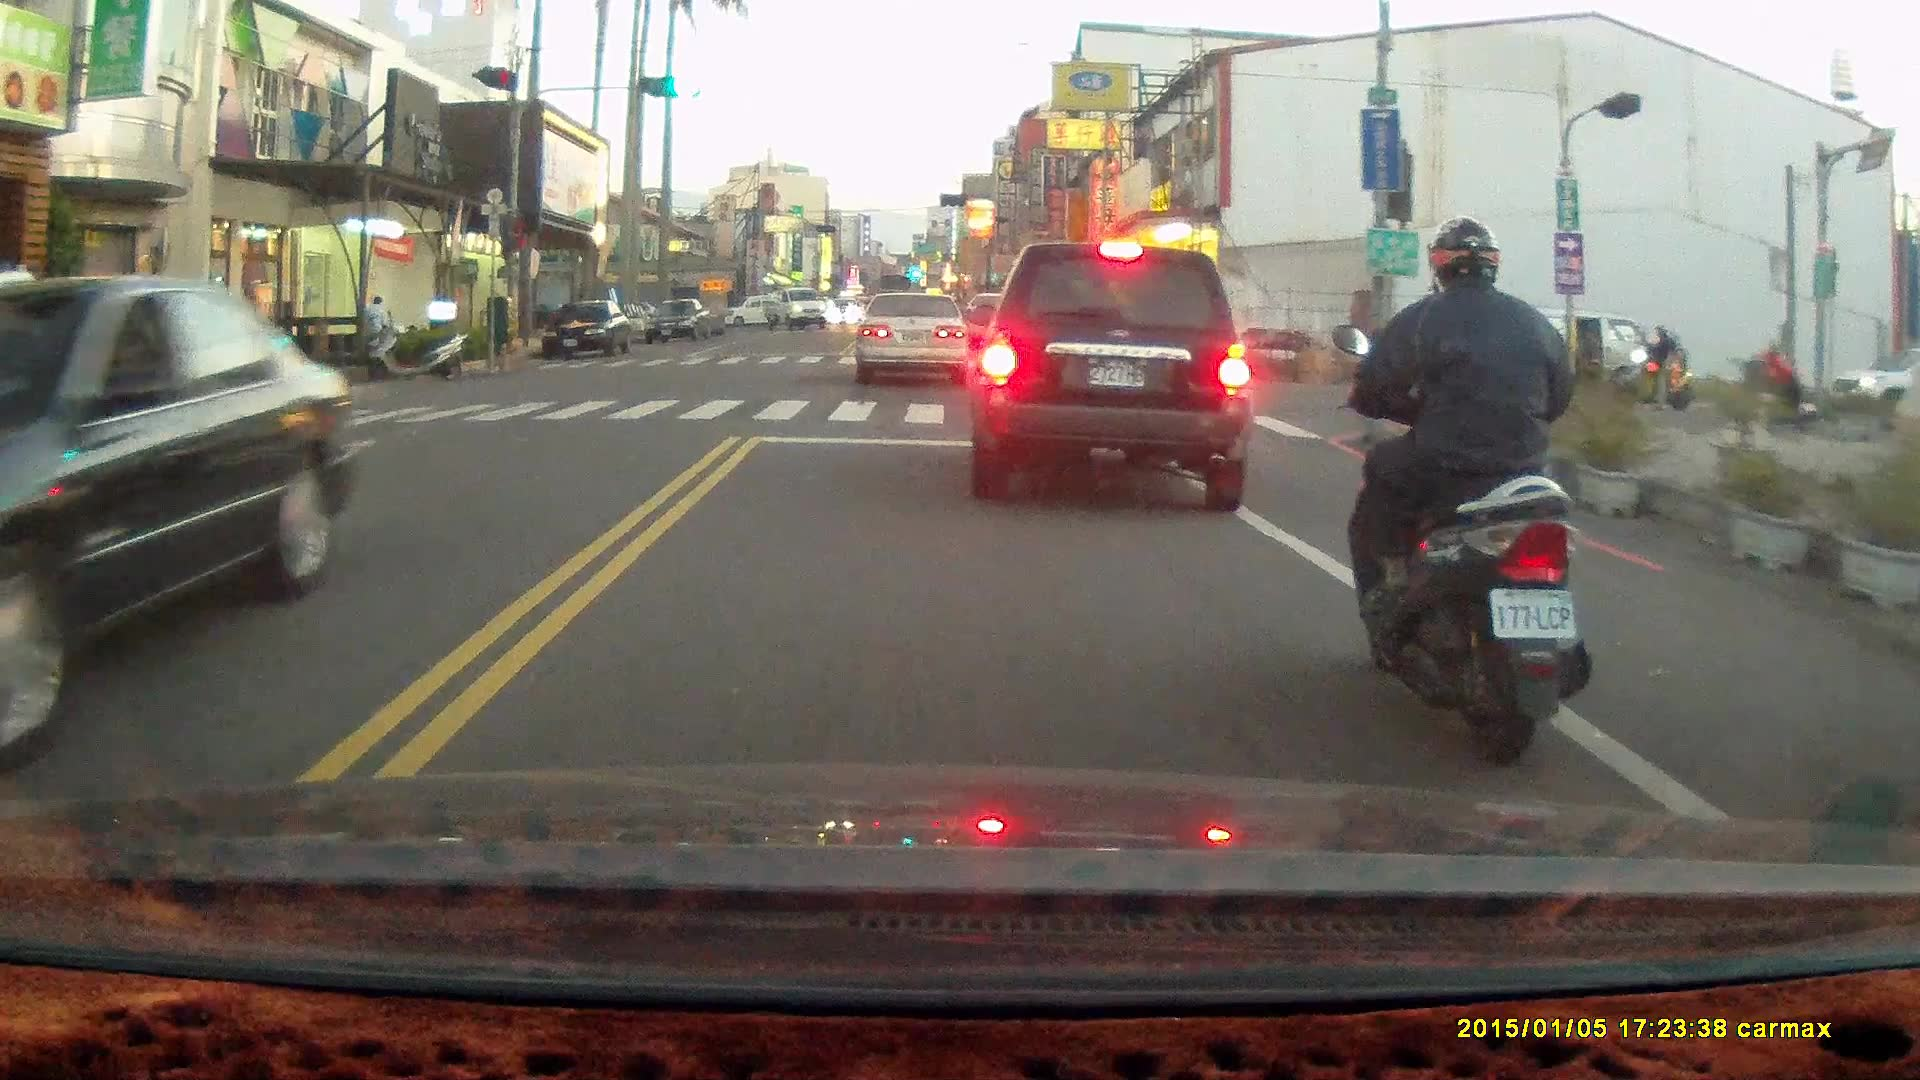pedestrian: (362, 292, 392, 360), (1578, 320, 1601, 389)
rider: (1329, 212, 1594, 764), (1734, 338, 1817, 433), (1619, 318, 1690, 409)
vehicle: (1, 274, 365, 751), (972, 237, 1253, 512), (1456, 305, 1670, 408), (858, 292, 971, 389), (541, 299, 637, 356), (643, 298, 711, 348)
